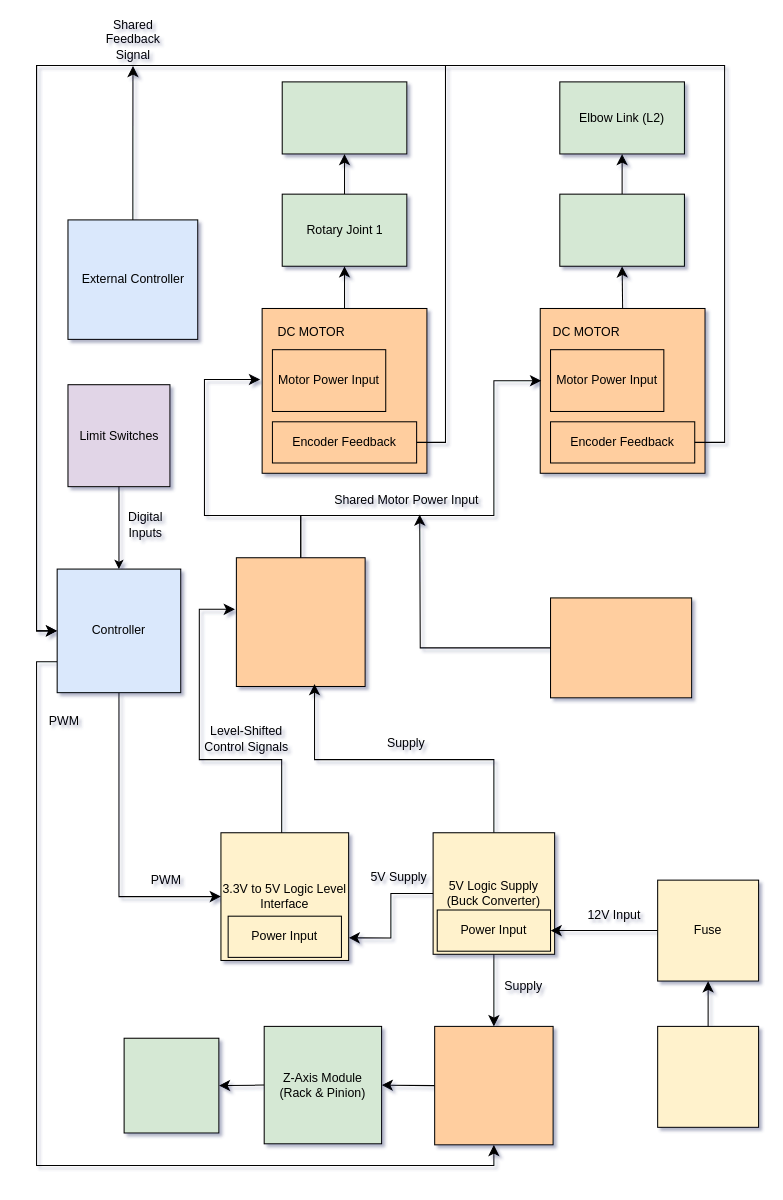
Image size: 783x1200. Some labels were removed from this diagram. The shapes that lost their labels are listed below. From the top down, each one's centre as x and y in pixels, then its label:
At (344,117): "Shoulder Link (L1)".
At (621,229): "Timing Belt Transmission".
At (300,621): "Motor Driver (H-Bridge)".
At (621,647): "External Motor Driver".
At (171,1085): "Spring-Loaded End Effector".
At (493,1085): "Micro Servo".
At (708,1076): "Power Input (12V)".
